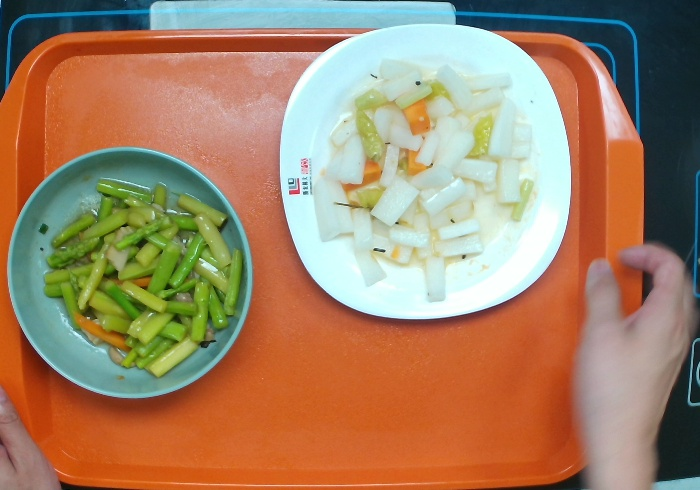ZNLD-Qing_Hua_Yuan_Wan: (4, 136, 263, 402)
ZNLD-Yuan_Jiao_Pan: (269, 16, 578, 327)
